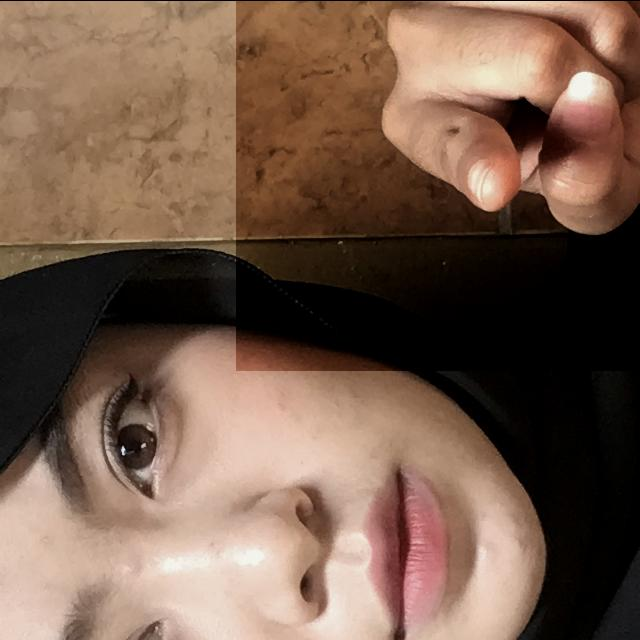kamu: (236, 0, 640, 370)
